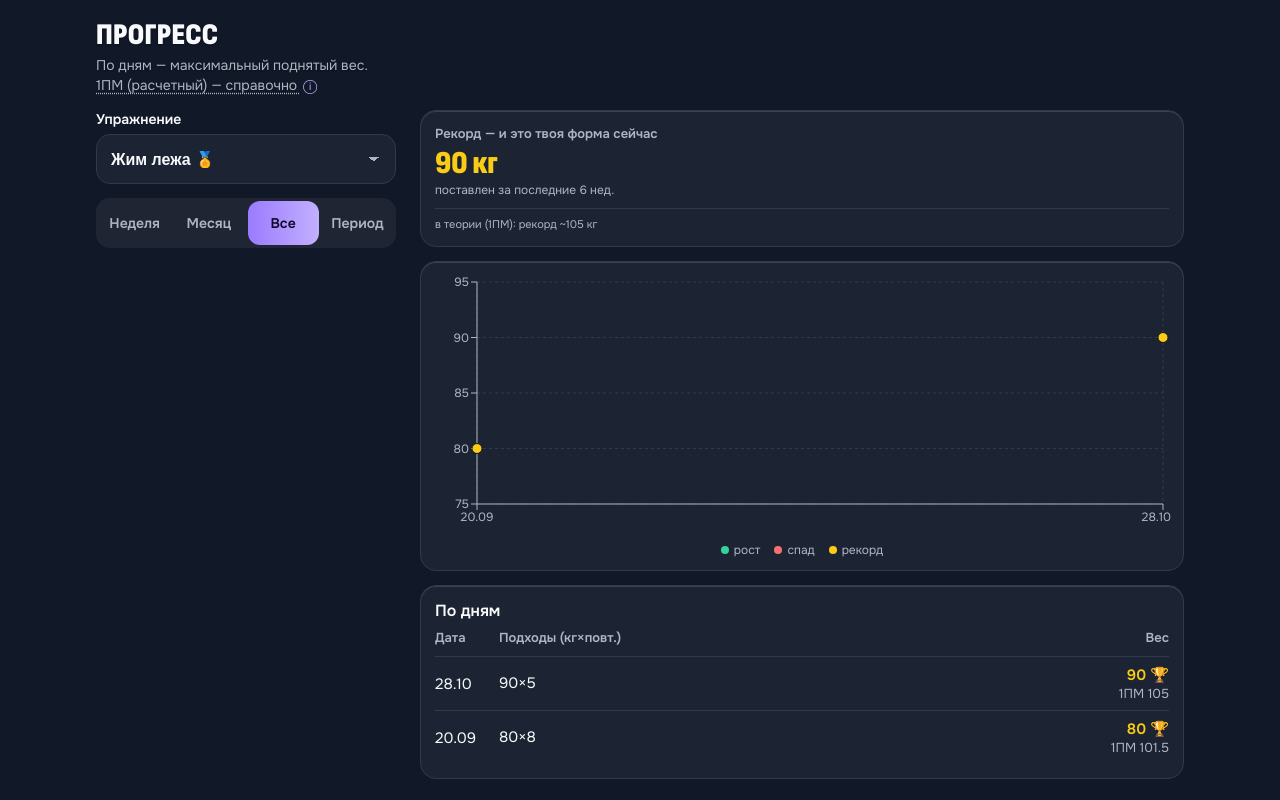
it: ProgressScreen — периоды › свой период: даты сужают; пусто — «Нет подходов за выбранный период»
The image size is (1280, 800).
Click the button "Период". click: (357, 223)
box: [322,201,393,245]
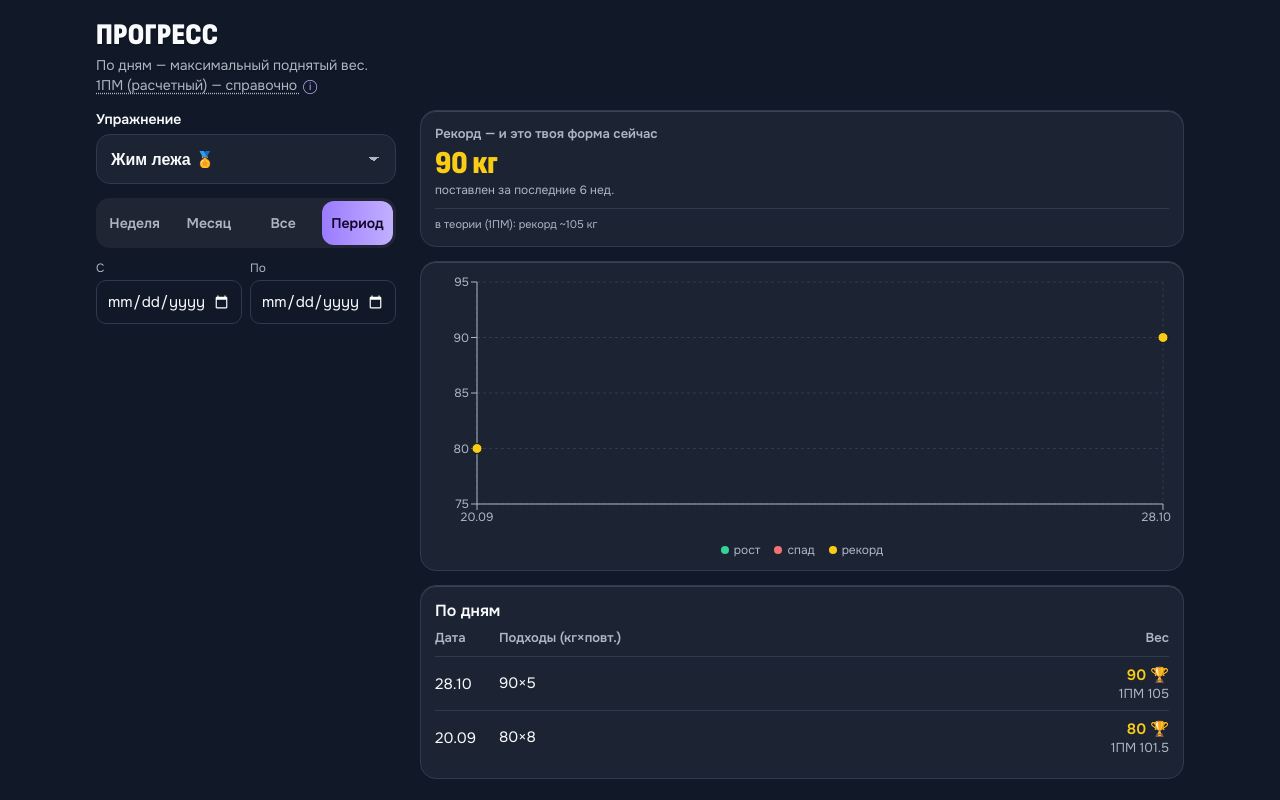
Type "2000-01-01" into the date field labelled "С". click: (169, 302)
box: [96,280,242,324]
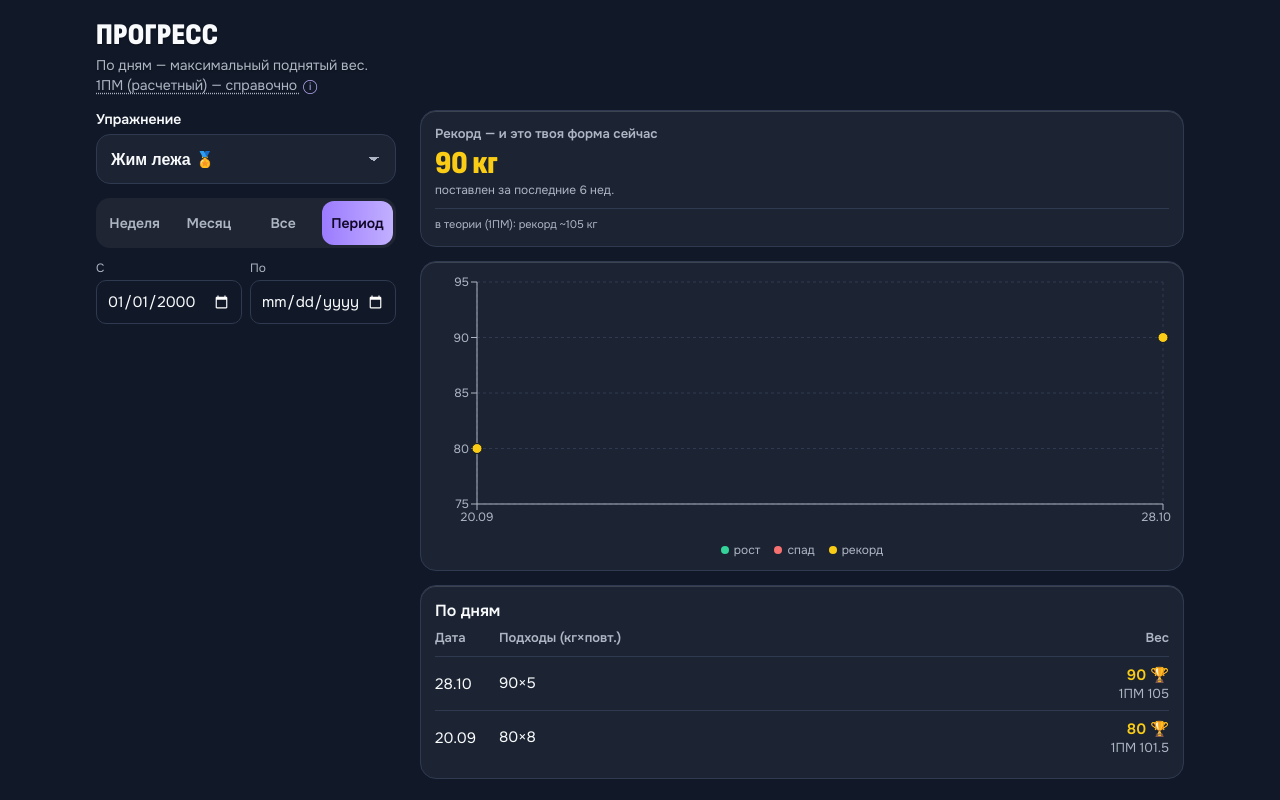
Type "2000-12-31" into the date field labelled "По". click: (323, 302)
box: [250,280,396,324]
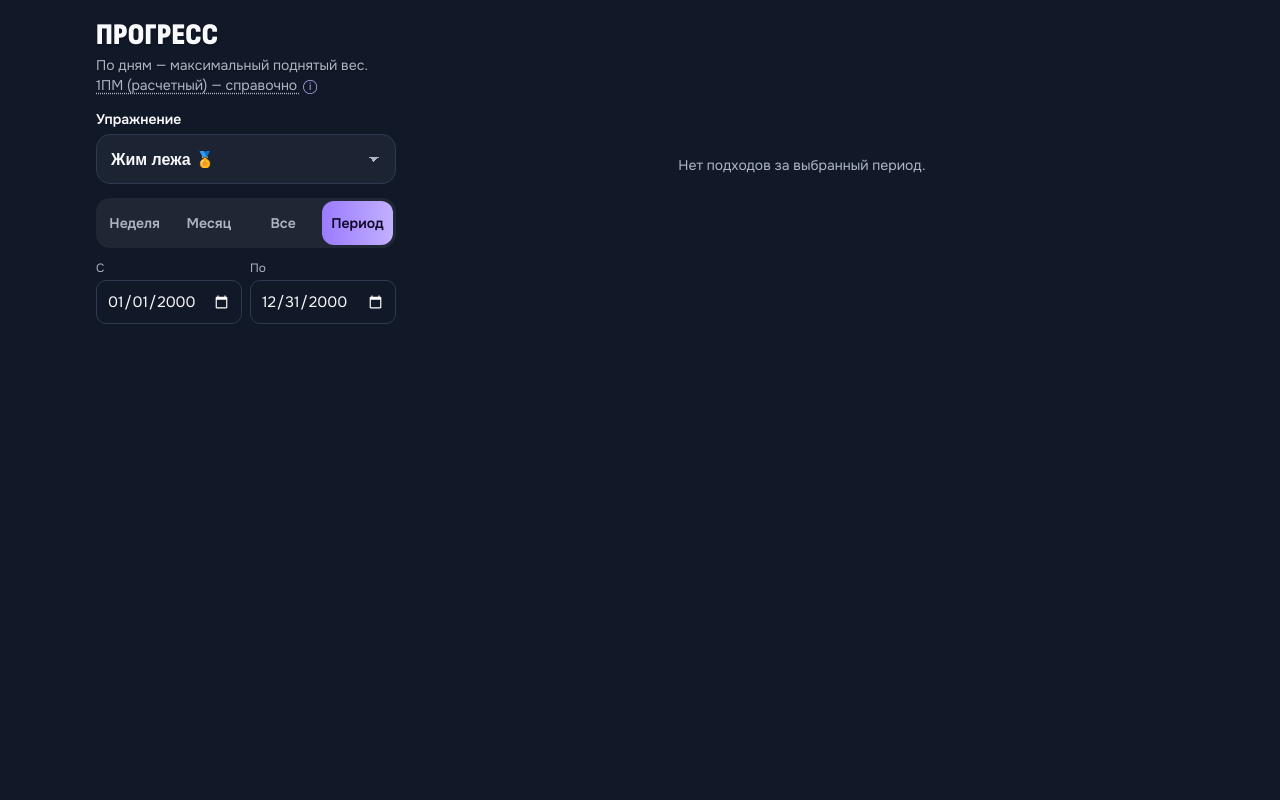
Expected: the text "Нет подходов за выбранный период." is shown, [678,156,926,174]
